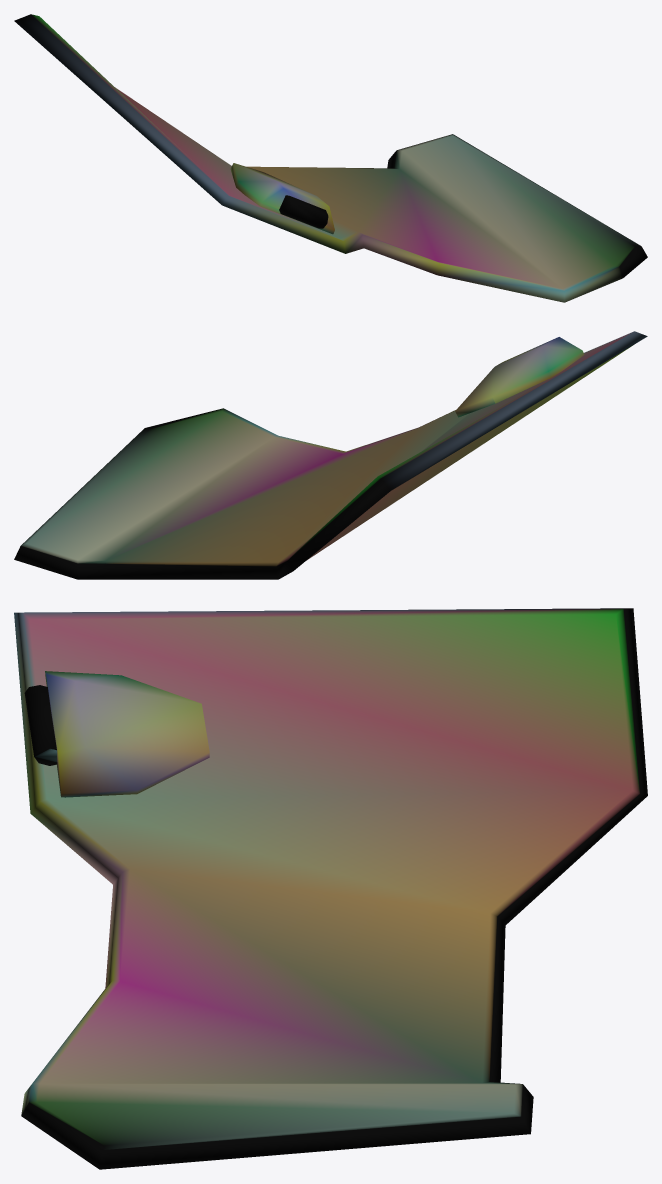
File: ASE_Shrike_Gib_Flap_L.gltf
3 renders of one model, top to bottom at view 1: azimuth 30°, elevation 25°; view 2: azimuth 150°, elevation 25°; view 3: azimuth 270°, elevation 25°, orthographic. The views are drawn at different scales.
Parts seen in each view (by area): view 1: ASE_Shrike_Gib_Flap_L; view 2: ASE_Shrike_Gib_Flap_L; view 3: ASE_Shrike_Gib_Flap_L.
Part boxes in pixels (x1,y1,x2,y2): ASE_Shrike_Gib_Flap_L: [14, 14, 647, 302]; ASE_Shrike_Gib_Flap_L: [14, 331, 647, 579]; ASE_Shrike_Gib_Flap_L: [14, 608, 647, 1169].
Size of the model in its own units: 0.9175 by 0.3945 by 0.8102.
